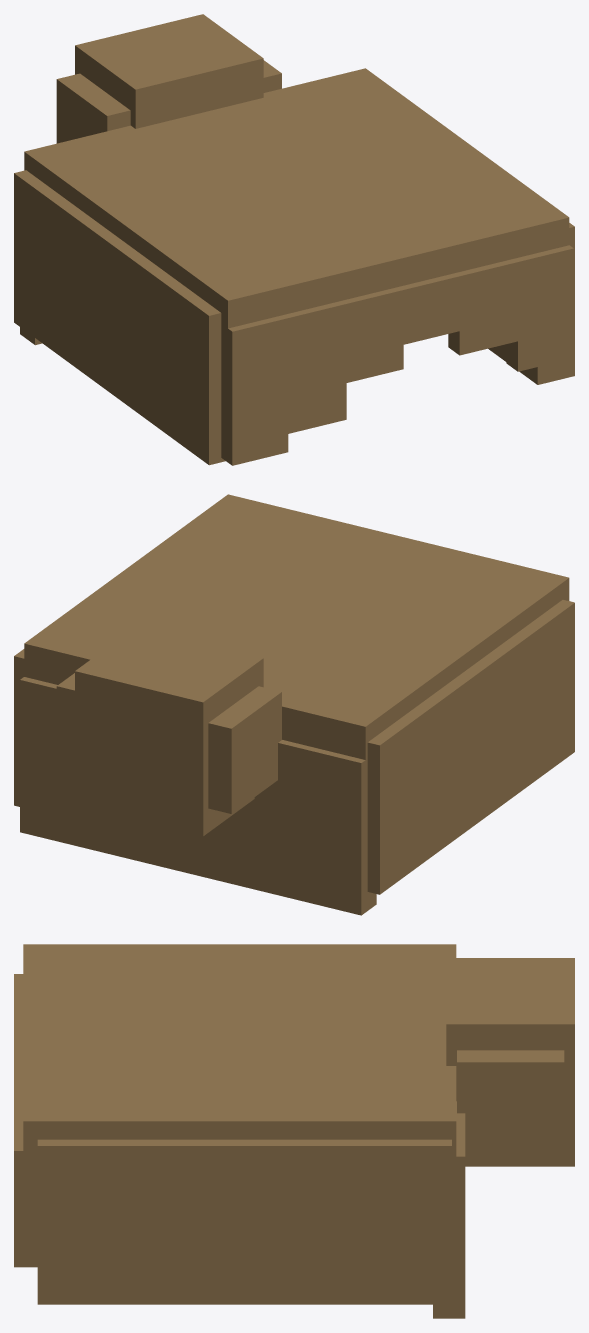
Rendered from hair_bun.glb.
The picture shows the model from 3 angles, top to bottom: view 1: azimuth 30°, elevation 25°; view 2: azimuth 150°, elevation 25°; view 3: azimuth 270°, elevation 25°; orthographic projection. The views are drawn at different scales.
Parts seen in each view (by area): view 1: char_hair_visual; view 2: char_hair_visual; view 3: char_hair_visual.
Boxes of the visible parts, x1,y1,x2,y2 form: char_hair_visual: [14, 14, 574, 465]; char_hair_visual: [14, 494, 574, 915]; char_hair_visual: [14, 944, 574, 1318].
Size of the model in its own units: 0.628 by 0.369 by 0.785.
